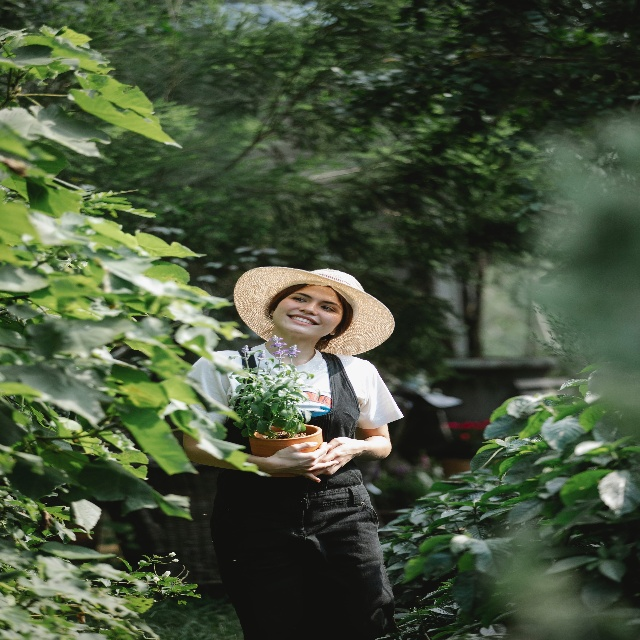Sin_guantes: (267, 441, 339, 483), (318, 437, 358, 476)
